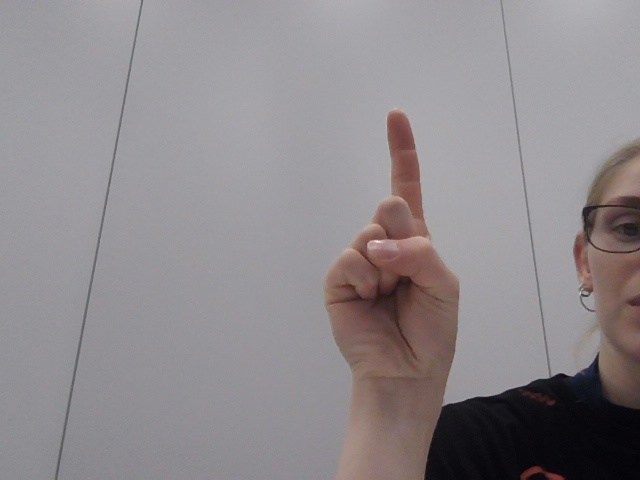up: (256, 106, 530, 380)
